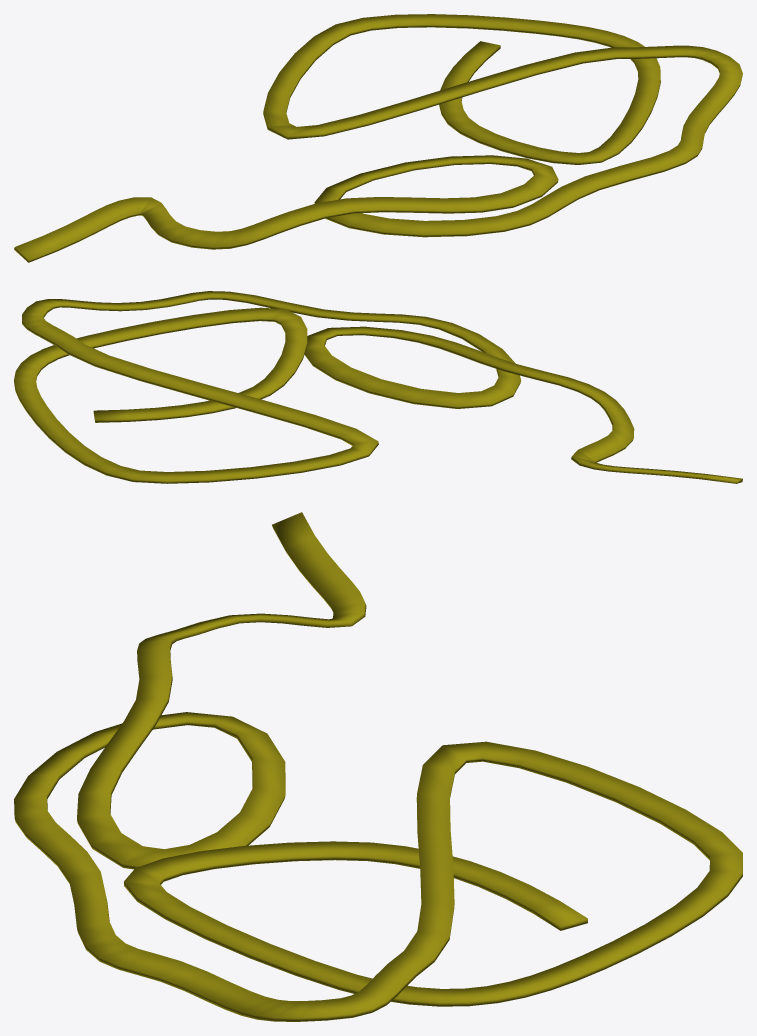
The picture shows the model from 3 angles, top to bottom: view 1: azimuth 30°, elevation 25°; view 2: azimuth 150°, elevation 25°; view 3: azimuth 270°, elevation 25°; orthographic projection. The views are drawn at different scales.
Visible parts, largest first — view 1: 电缆; view 2: 电缆; view 3: 电缆.
Boxes of the visible parts, <box> form: 电缆: <box>14,14,742,262</box>; 电缆: <box>14,291,742,483</box>; 电缆: <box>14,512,742,1021</box>.
Size of the model in its own units: 4.45 by 0.1357 by 2.66.
